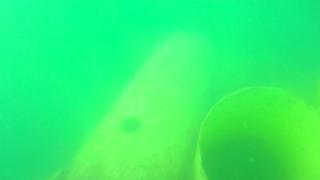pipe: (50, 12, 228, 180), (193, 85, 320, 180)
